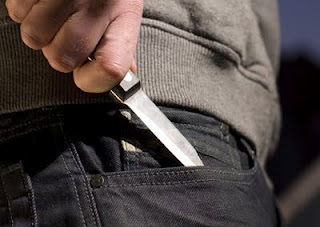knife: (49, 29, 213, 174)
